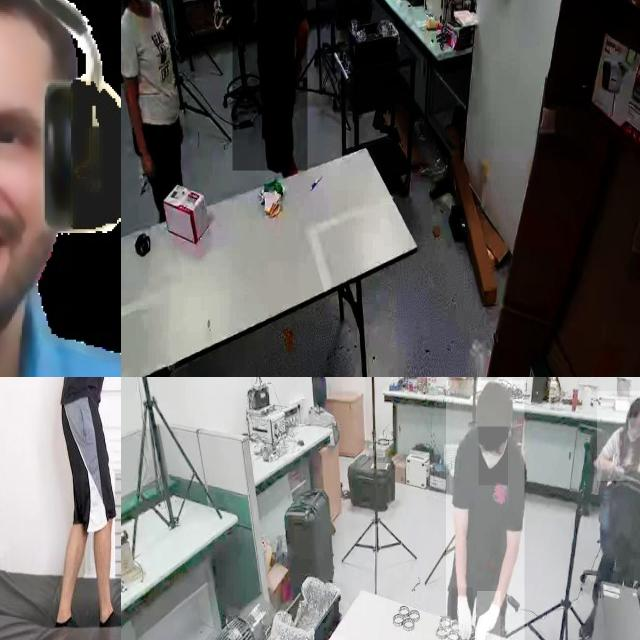Ear-protection: (0, 0, 121, 240)
face_mask: (478, 427, 508, 485)
hand_glove: (450, 587, 473, 640), (477, 591, 501, 640)
hand_noglove: (139, 150, 158, 180), (292, 62, 302, 92)
head_nohelmet: (476, 378, 513, 428), (627, 395, 640, 418)
person: (446, 380, 525, 640), (54, 377, 121, 627), (121, 0, 188, 230), (232, 0, 307, 171), (597, 391, 640, 481)
